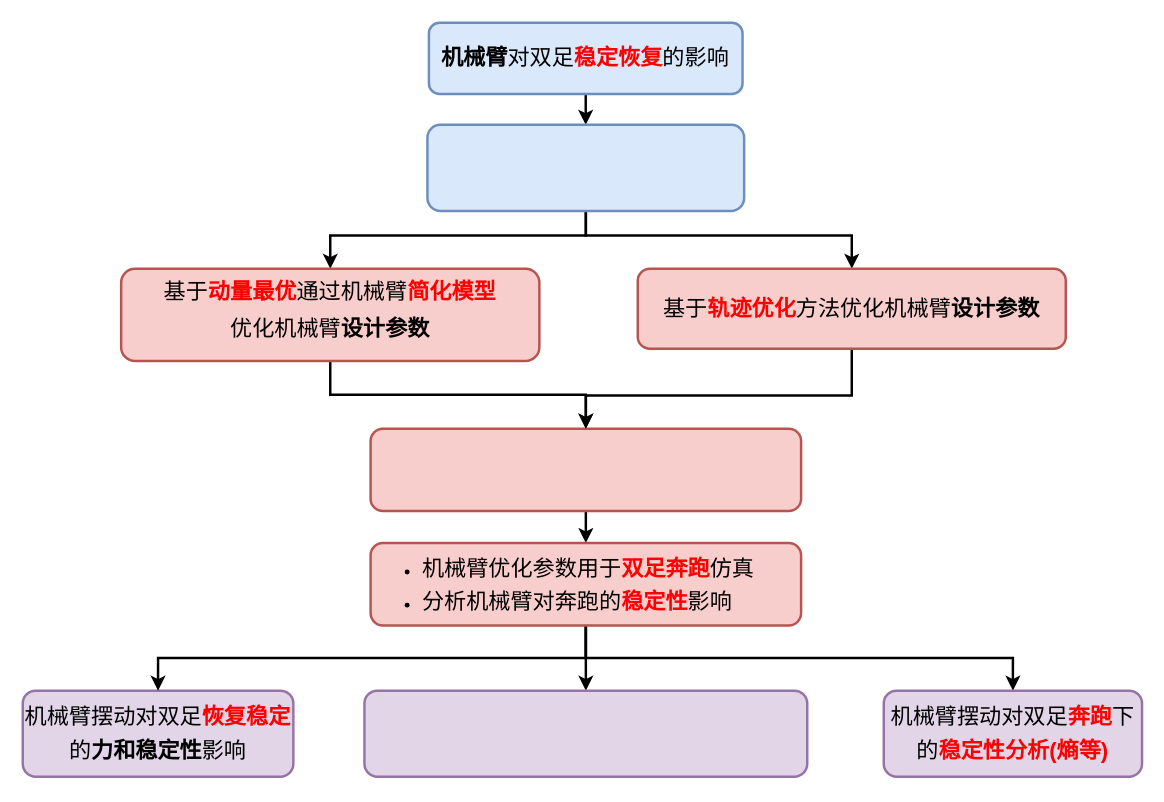
Some shapes in this 1164 by 802 pixel diagram are drawn without their labels. Each missing label, with the centre of its shape:
"双足运动中机械臂基于 动量 的 作用原理 动态 运动评价指标： 动量" goes at point (585, 733).
"基于 生物学 提出该过程 机械臂作用量： 动量" goes at point (585, 167).
"对比 有无 机械臂对 稳定恢复 的影响 两种优化 方法的差异" goes at point (585, 469).
